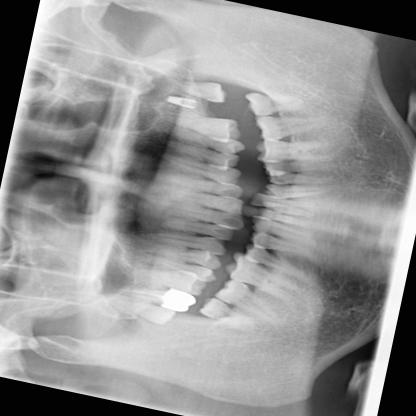Bicon: (158, 90, 203, 110)
